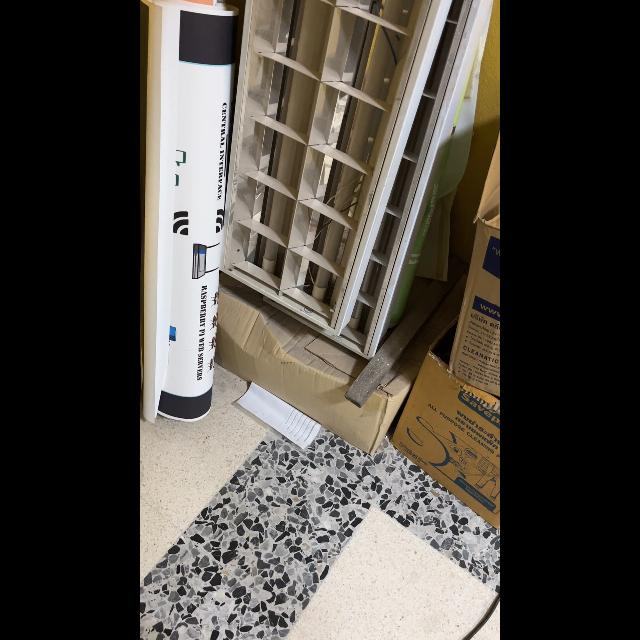cardboard_box: (212, 278, 416, 458), (388, 313, 500, 527), (446, 118, 500, 392)
